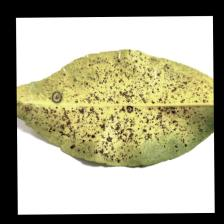canker: (43, 74, 191, 139)
